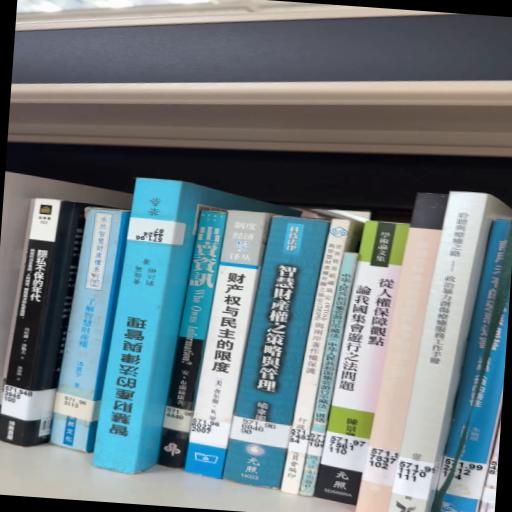reverse: (94, 179, 300, 474)
